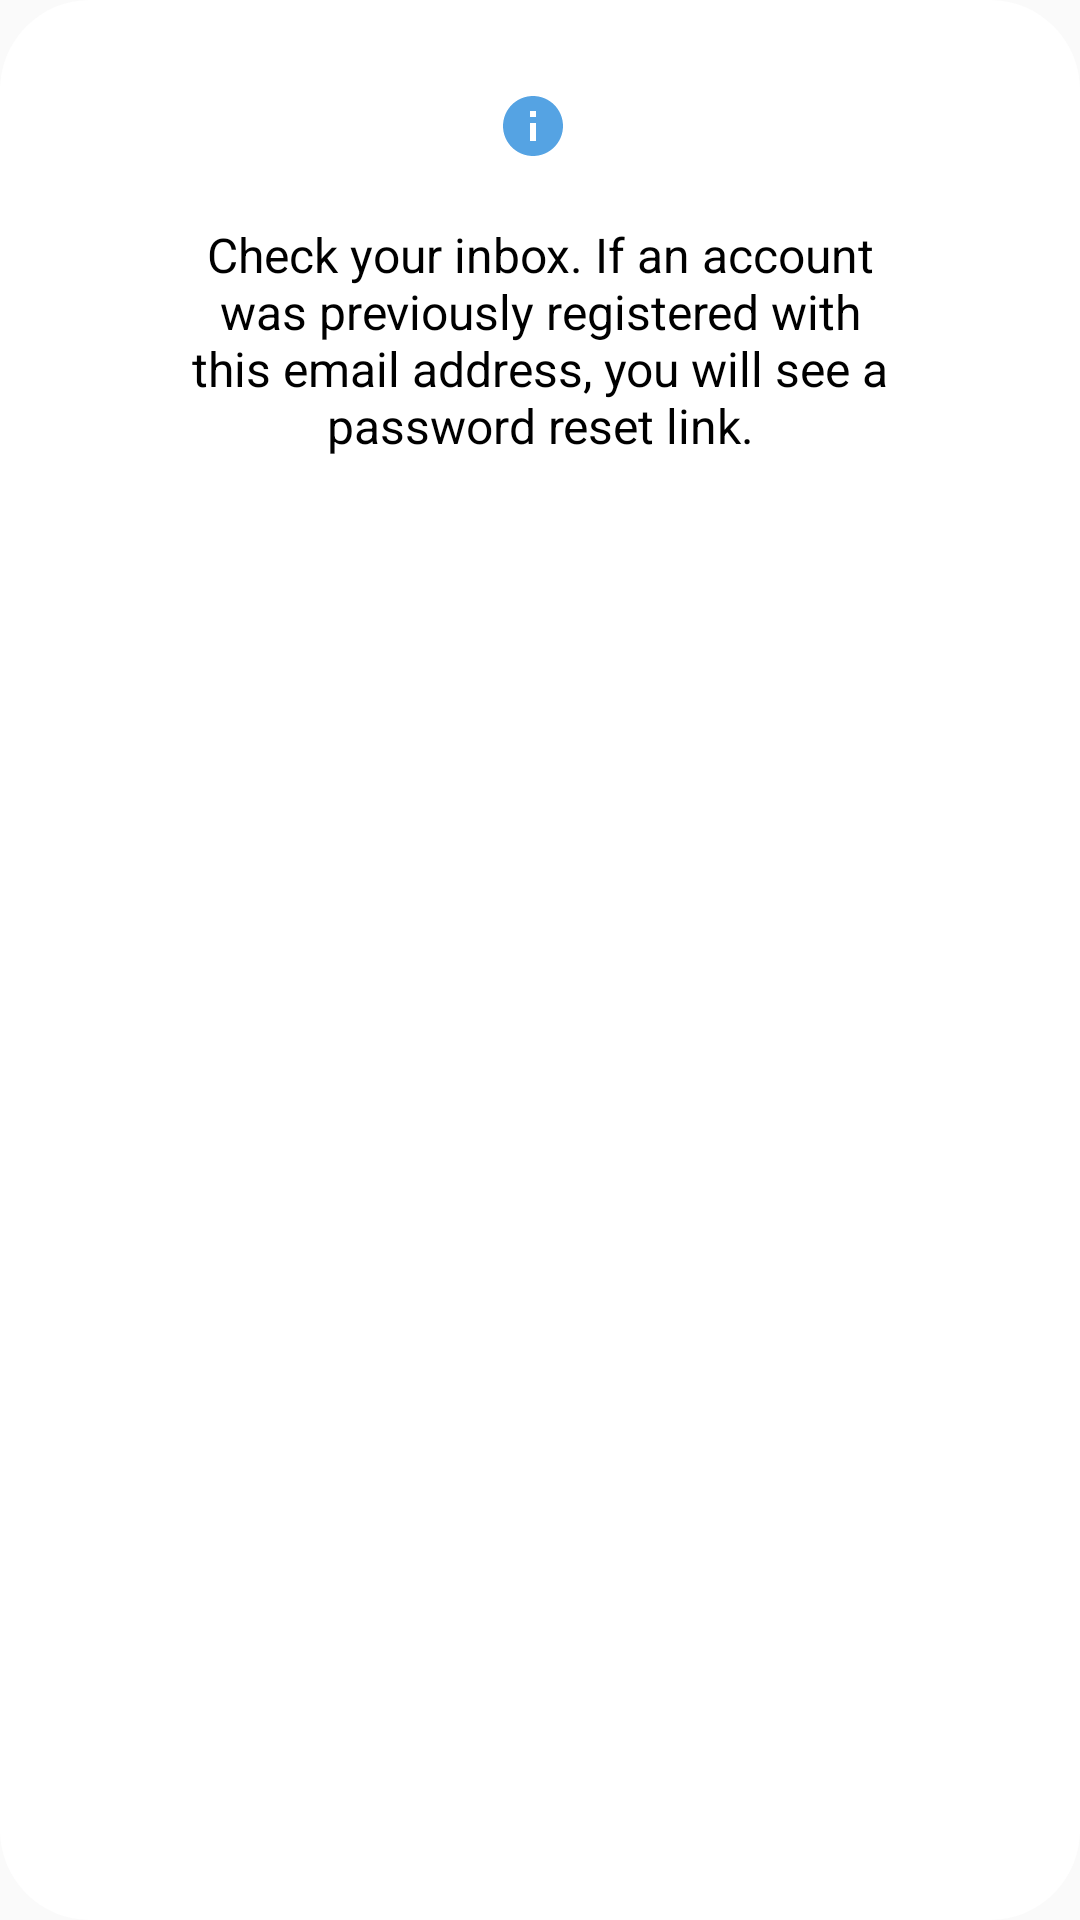

Locate icon controls on the screen. Image size 1080*1920, boxes as (x1, y1, x2, y2).
info: (503, 96, 563, 156)
